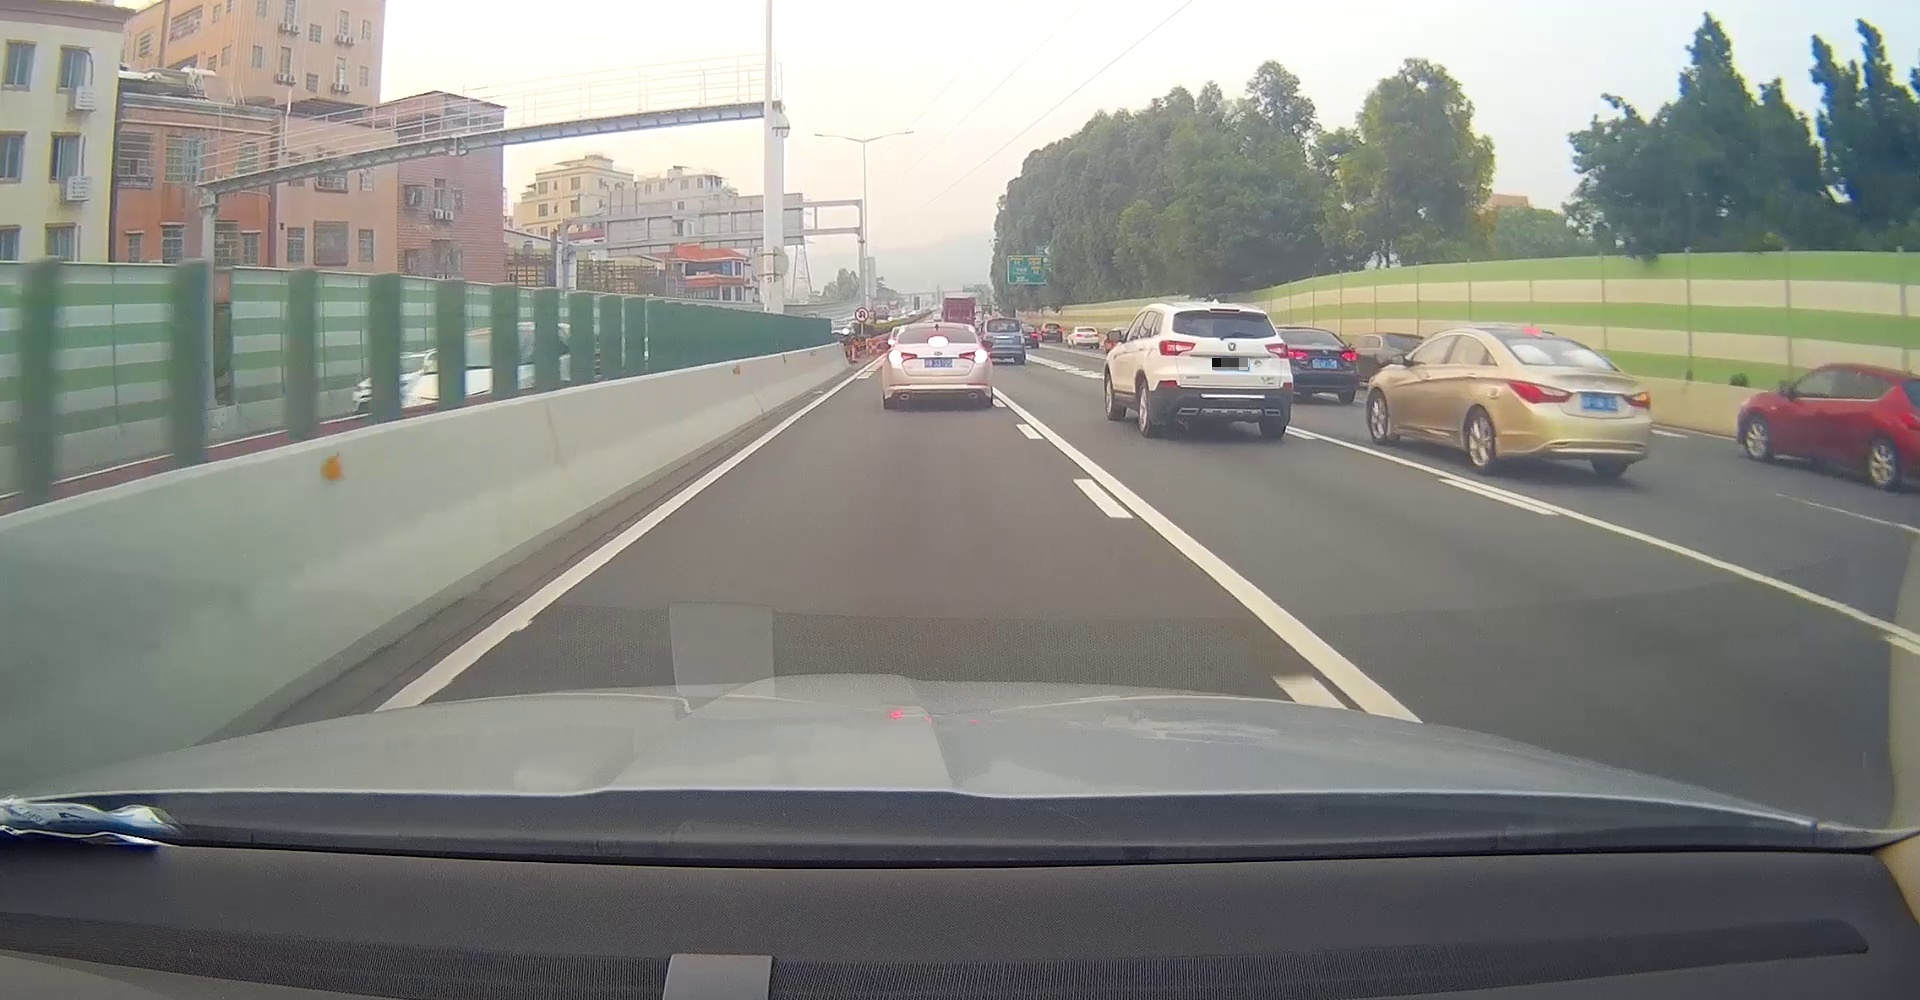L_light: (1507, 378, 1573, 404), (1161, 339, 1195, 357), (888, 350, 917, 363)
R_light: (1625, 390, 1651, 409), (1265, 343, 1291, 359), (959, 349, 987, 363)
T_light: (928, 336, 949, 344), (1211, 307, 1239, 312), (1538, 340, 1559, 341)
day-brake: (883, 322, 992, 406)
day-no: (1490, 331, 1652, 480), (1153, 302, 1293, 439)
plate_1: (1211, 358, 1250, 371)
